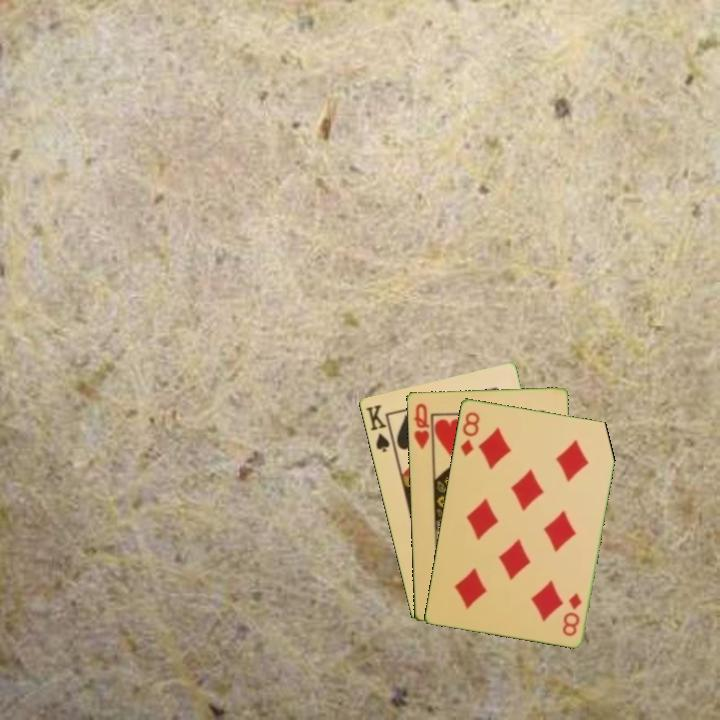8d: (457, 408, 482, 458), (559, 589, 584, 639)
Ks: (362, 401, 397, 455)
Qh: (410, 400, 432, 451)
